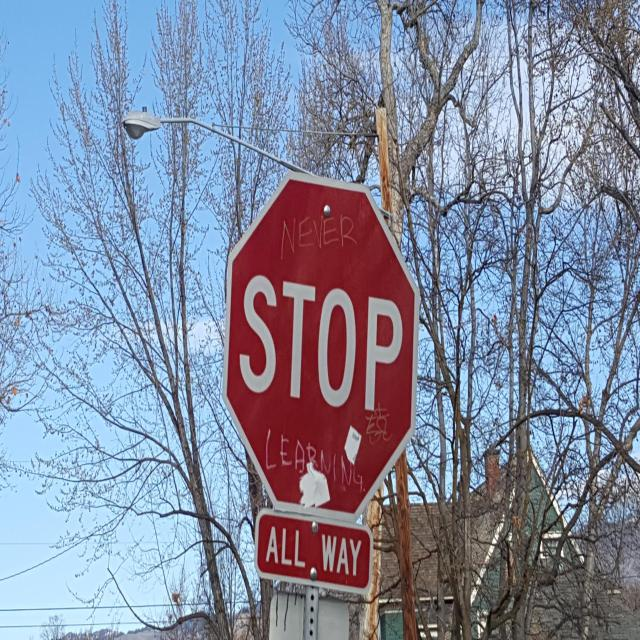Panneau-Stop: (214, 156, 422, 522)
